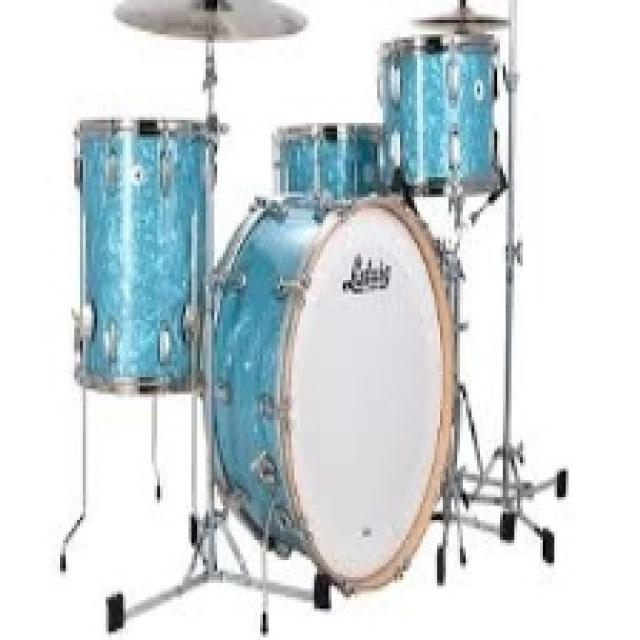drums: (74, 2, 533, 591)
